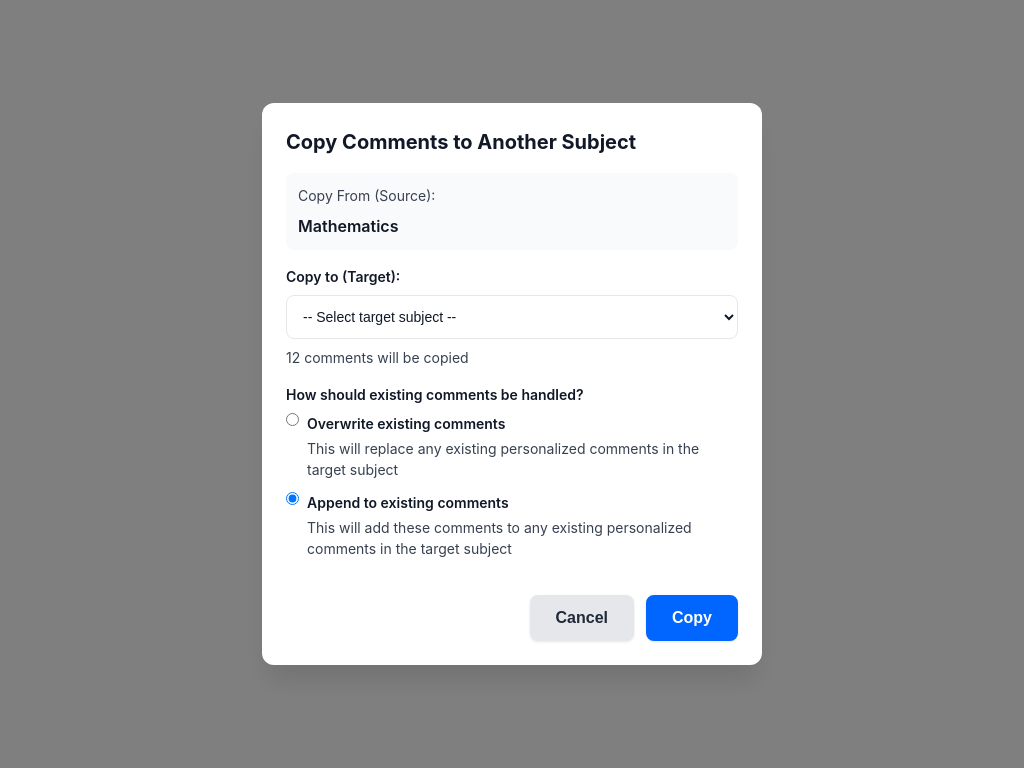
it: CopyCommentsModal - API Integration (US-CP-004) › AC-4.3: Success Feedback with Mode Indication › should display overwrite indication in success message
The width and height of the screenshot is (1024, 768).
Select "Physics" in the dropdown labelled "Copy to (Target):" at point(512, 317), box x1=286 y1=295 x2=738 y2=339
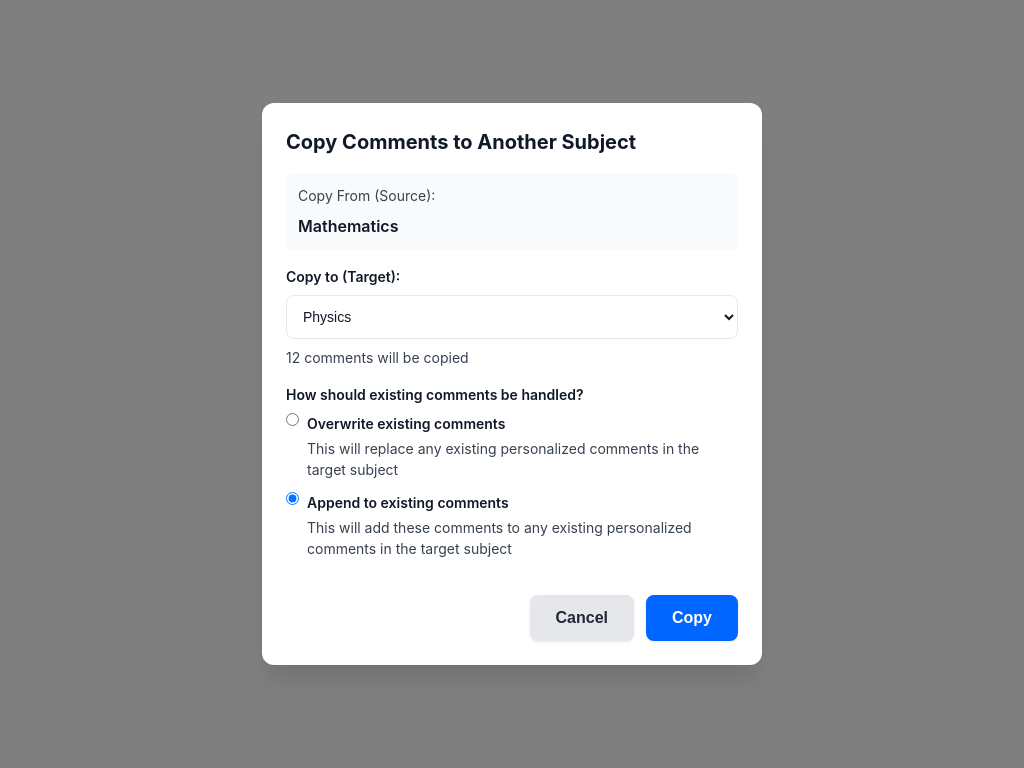
Click the radio button labelled "Overwrite existing comments" at point(292, 420), box x1=286 y1=413 x2=299 y2=426
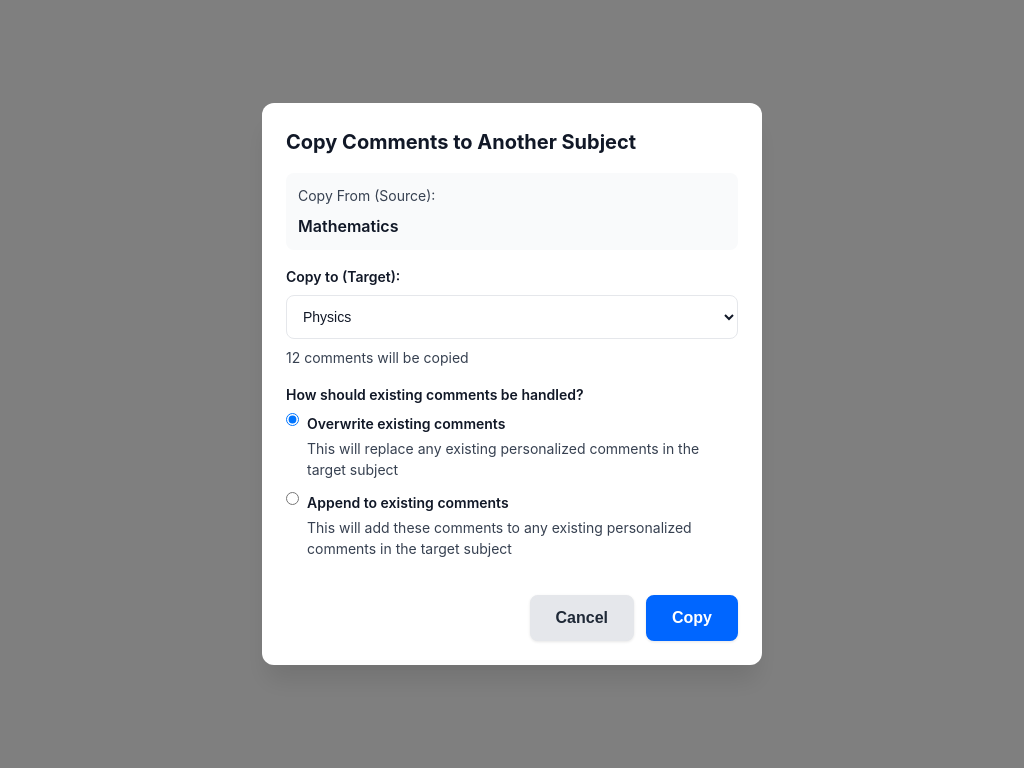
Click the button "Copy" at point(692, 618), box x1=646 y1=595 x2=738 y2=641
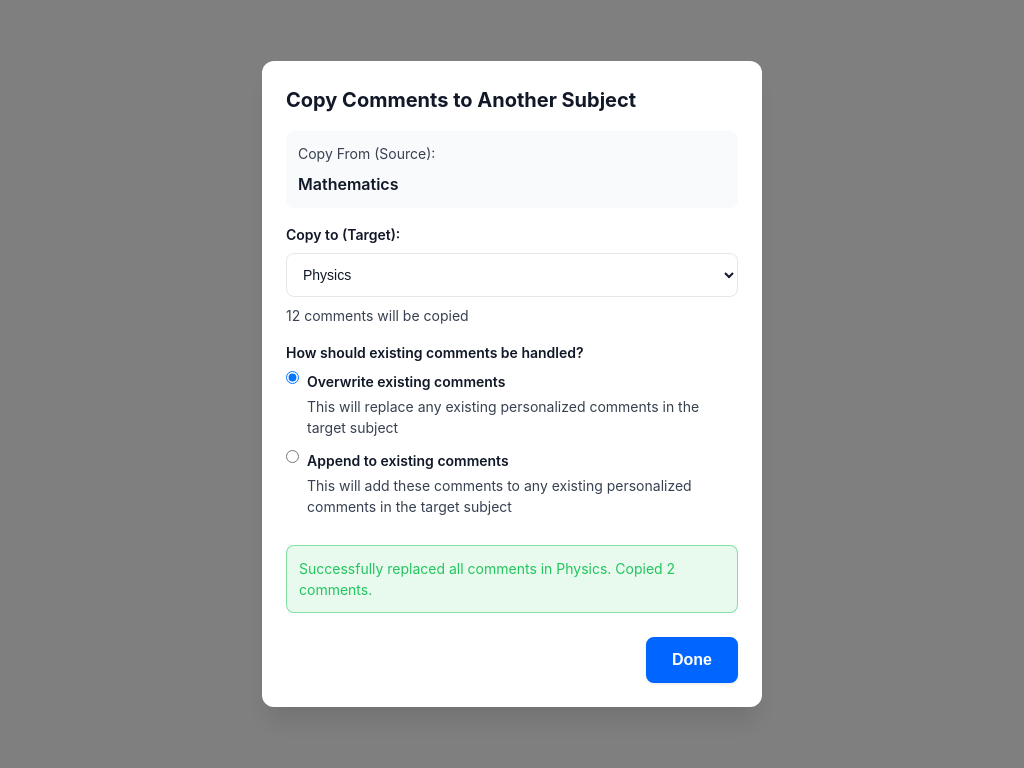
Expected: the text "Successfully replaced all comments" is shown, x1=299 y1=560 x2=675 y2=598
